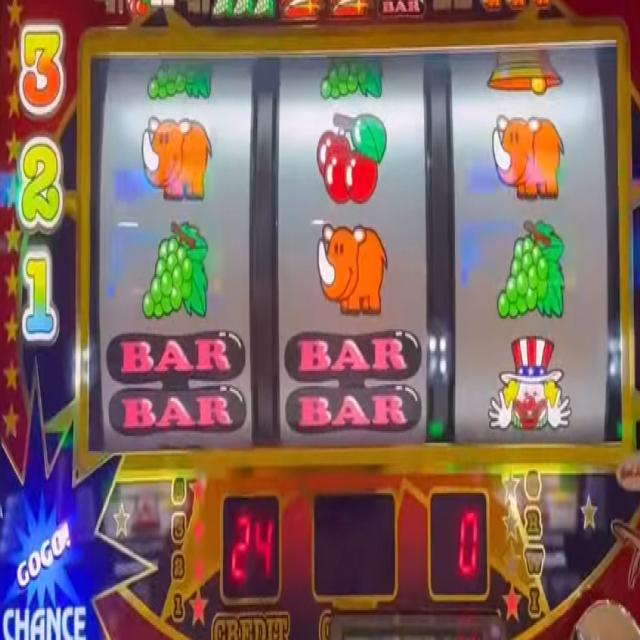bar: (105, 327, 246, 432), (286, 328, 422, 431), (382, 0, 426, 19)
bell: (485, 50, 565, 95)
cherry: (317, 112, 388, 204), (127, 0, 151, 20)
clown: (487, 333, 571, 435)
display: (90, 51, 622, 447)
elephant: (493, 106, 569, 204), (317, 220, 387, 318), (141, 116, 213, 201)
grape: (494, 218, 570, 326), (141, 222, 210, 320), (319, 61, 385, 106), (147, 60, 213, 104), (232, 0, 252, 21), (253, 0, 274, 19), (211, 0, 232, 17)
z: (282, 0, 322, 25), (327, 0, 370, 22)
